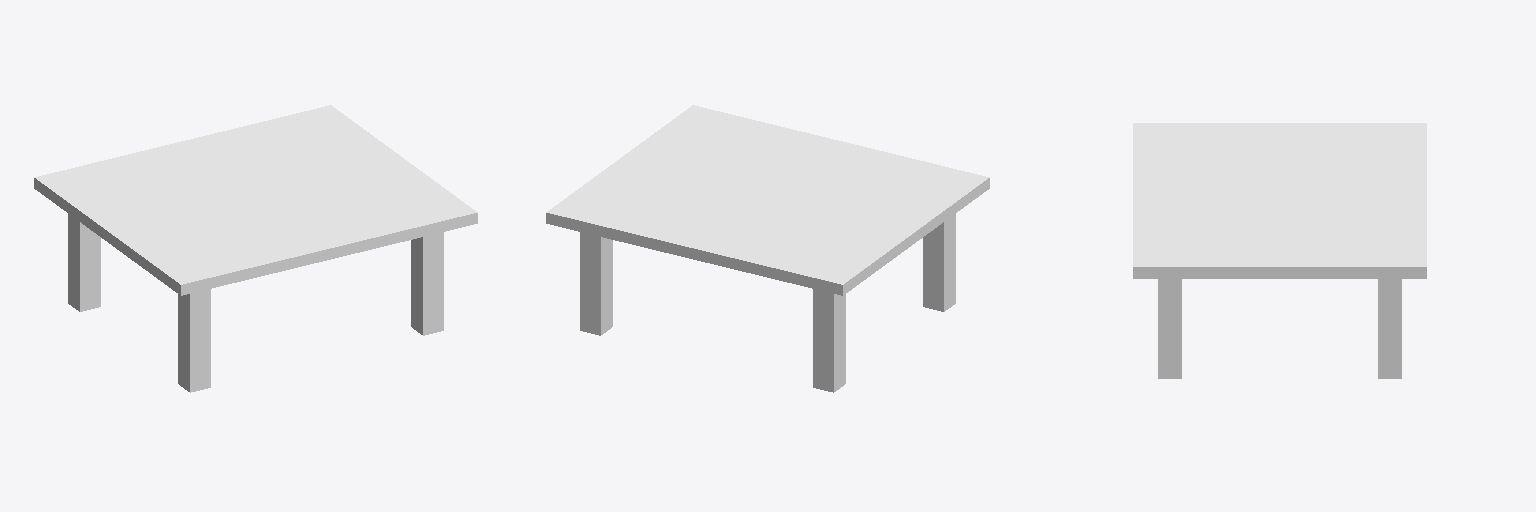
File: TableProp.obj
The picture shows the model from 3 angles: view 1: azimuth 30°, elevation 25°; view 2: azimuth 150°, elevation 25°; view 3: azimuth 270°, elevation 25°; orthographic projection.
Visible parts, largest first — view 1: object 1; view 2: object 1; view 3: object 1.
Boxes of the visible parts, <box> form: object 1: <box>34,105,477,392</box>; object 1: <box>546,105,989,392</box>; object 1: <box>1133,123,1426,378</box>.
Size of the model in its own units: 2.8 by 1.1 by 2.4.